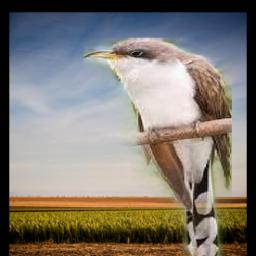Cuckoo: (83, 38, 232, 256)
